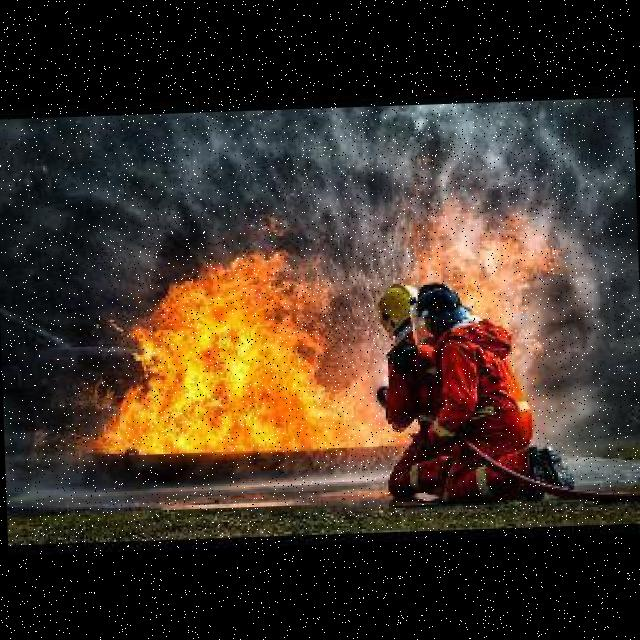fire: (55, 181, 606, 496)
